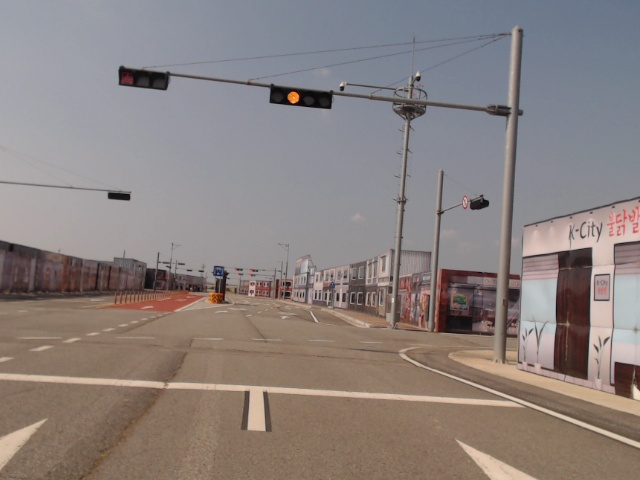orange_4: (270, 85, 333, 111)
